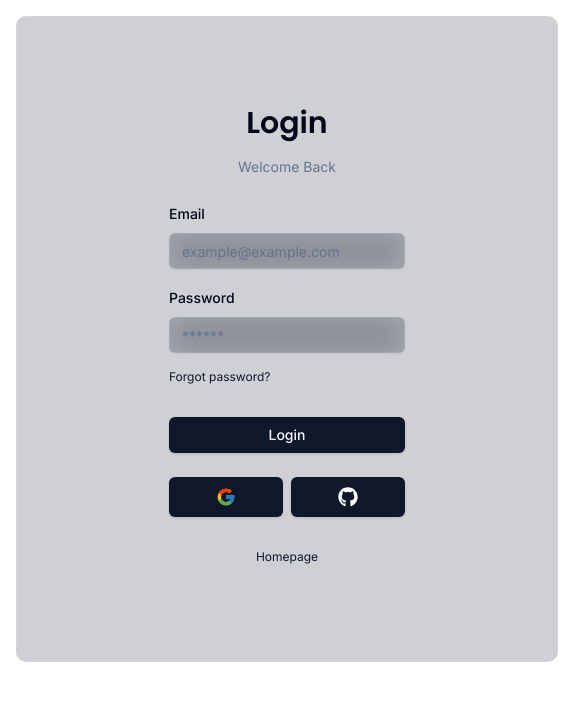
it: LoginPageView Component › validates required fields
Click the button "Login": (287, 435) x1=169 y1=417 x2=405 y2=453
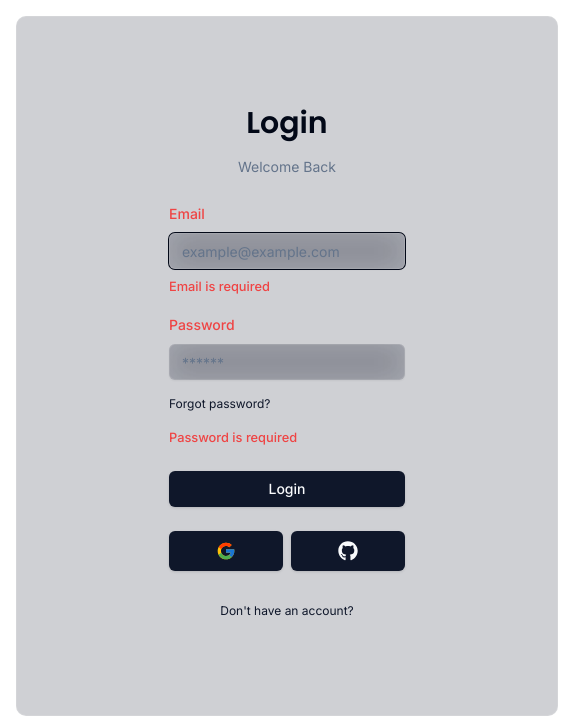
Expected: the text "Email is required" is shown, x1=169 y1=279 x2=270 y2=294
Expected: the text "Password is required" is shown, x1=169 y1=430 x2=297 y2=445
